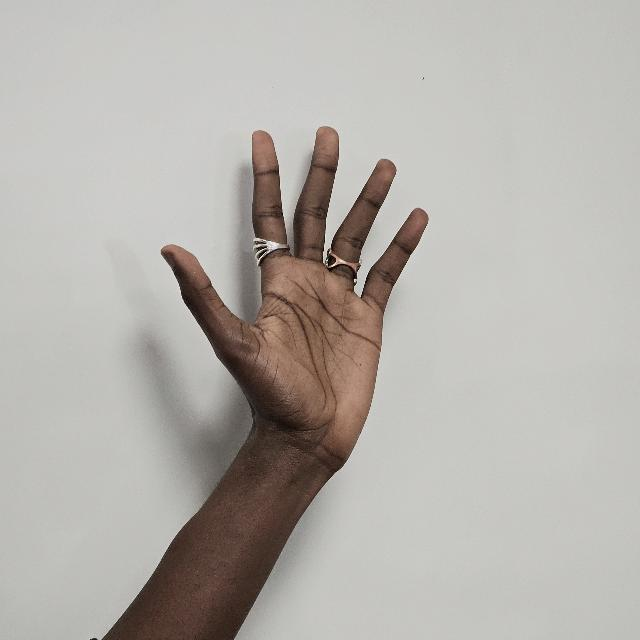X: (161, 127, 429, 477)
